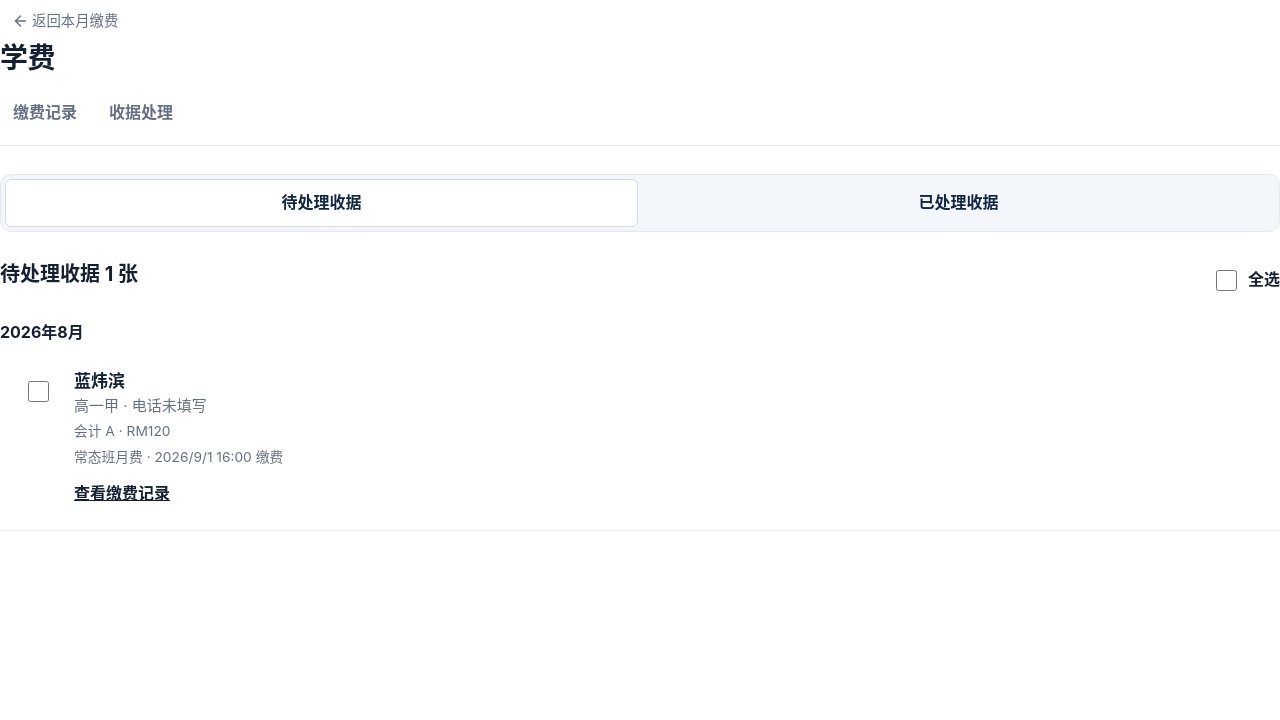
Test case: retains selection after an explicit refusal, then keeps a confirmed count when latest-state verification fails
What coordinates should you click on to do the following:
click the checkbox labelled "全选"
I would click on:
 (1226, 280)
Its box is [1216, 270, 1237, 290].
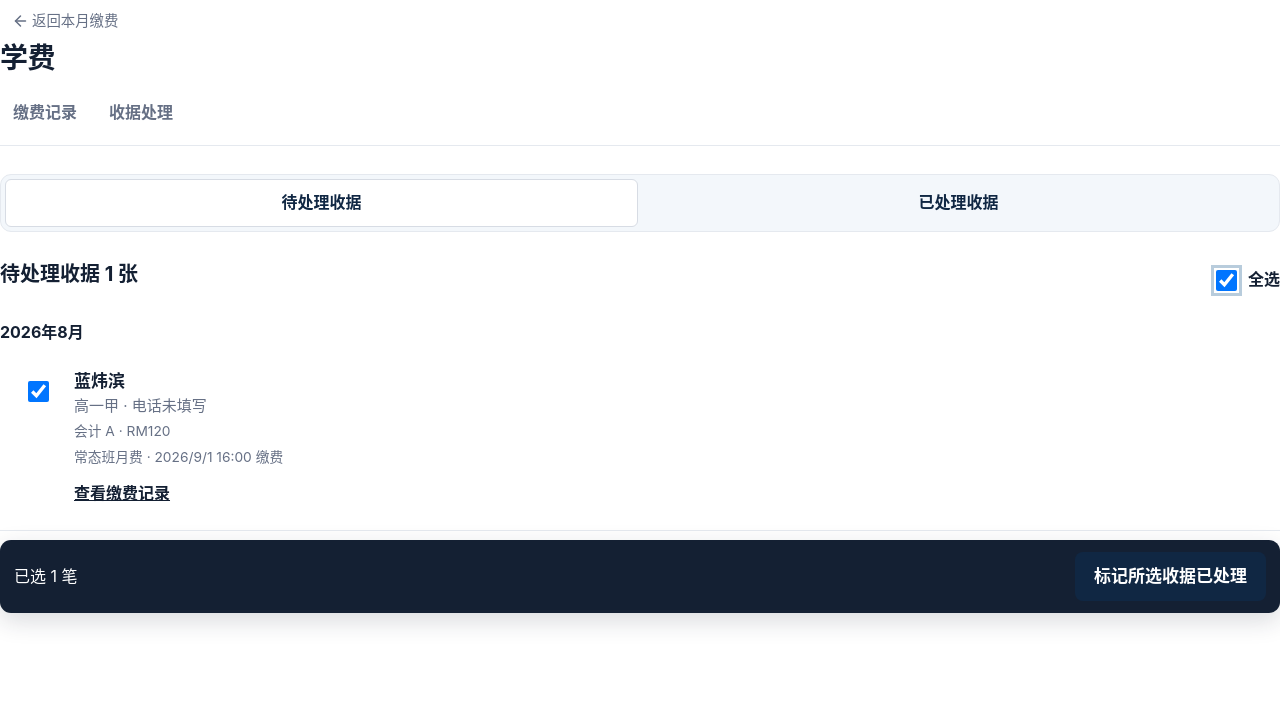
What coordinates should you click on to do the following:
click the button "标记所选收据已处理"
I would click on:
 (1170, 578)
Its box is [1075, 554, 1266, 603].
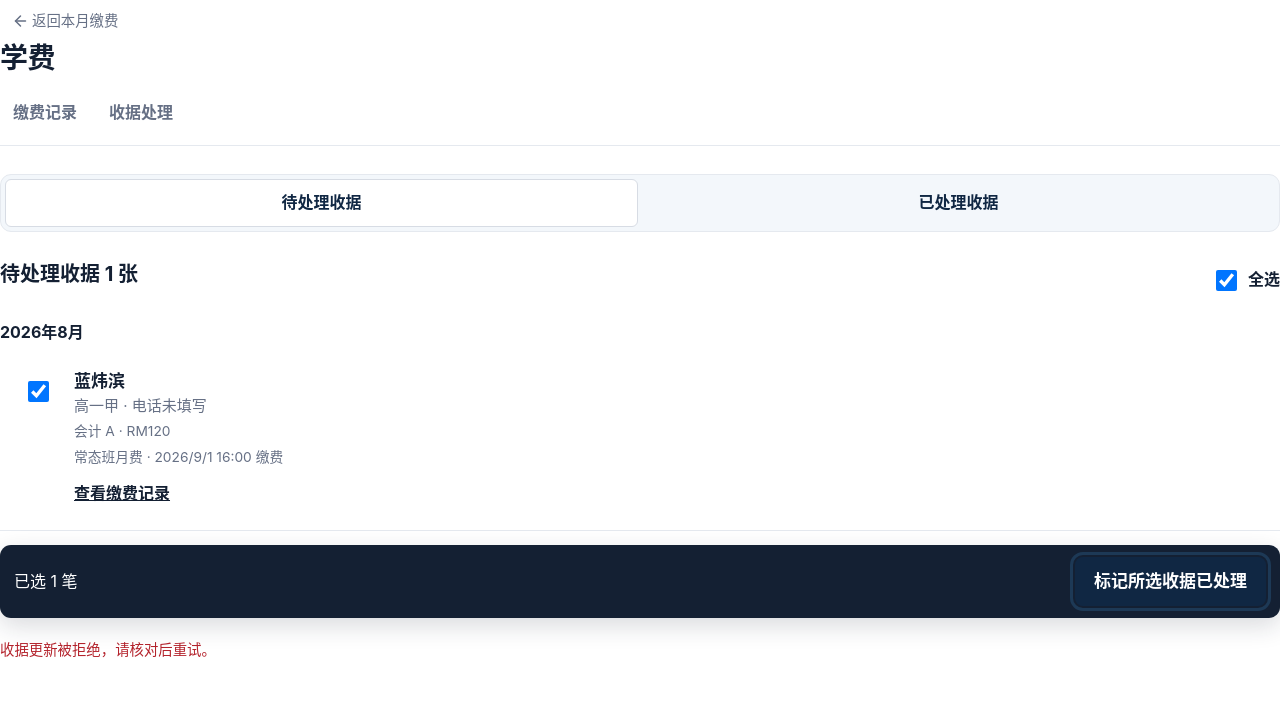
Expected: the checkbox labelled "全选" is checked, [1216, 270, 1237, 290]
Expected: the message shows "被拒绝", [0, 643, 216, 660]
What coordinates should you click on to do the following:
click the button "标记所选收据已处理"
I would click on:
 (1170, 583)
Its box is [1075, 558, 1266, 608].
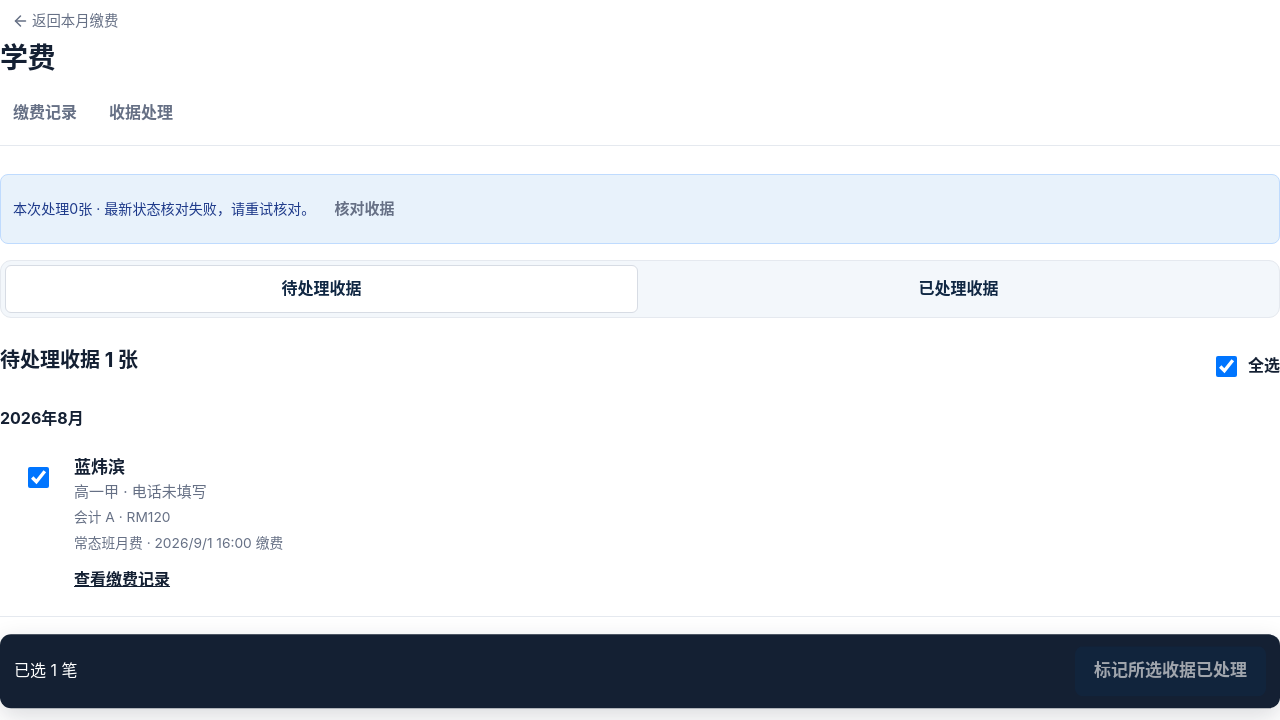
Expected: the checkbox labelled "全选" is checked, [1216, 356, 1237, 376]
Expected: the text "本次处理0张 · 最新状态核对失败，请重试核对。" is shown, [13, 198, 315, 220]
Expected: the button "标记所选收据已处理" is disabled, [1075, 647, 1266, 696]
